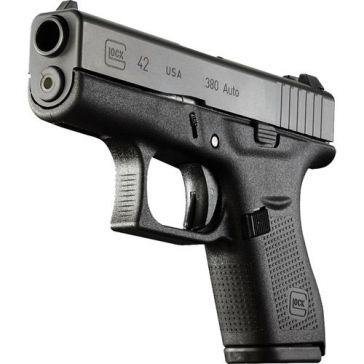gun: (25, 1, 340, 364)
